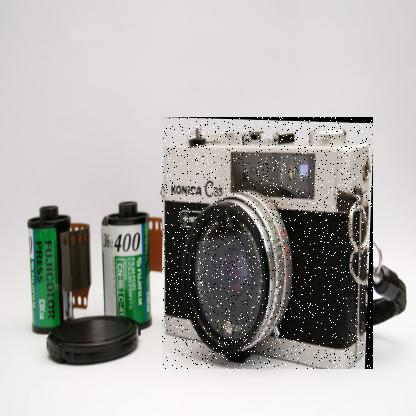Camera: (163, 118, 375, 371)
